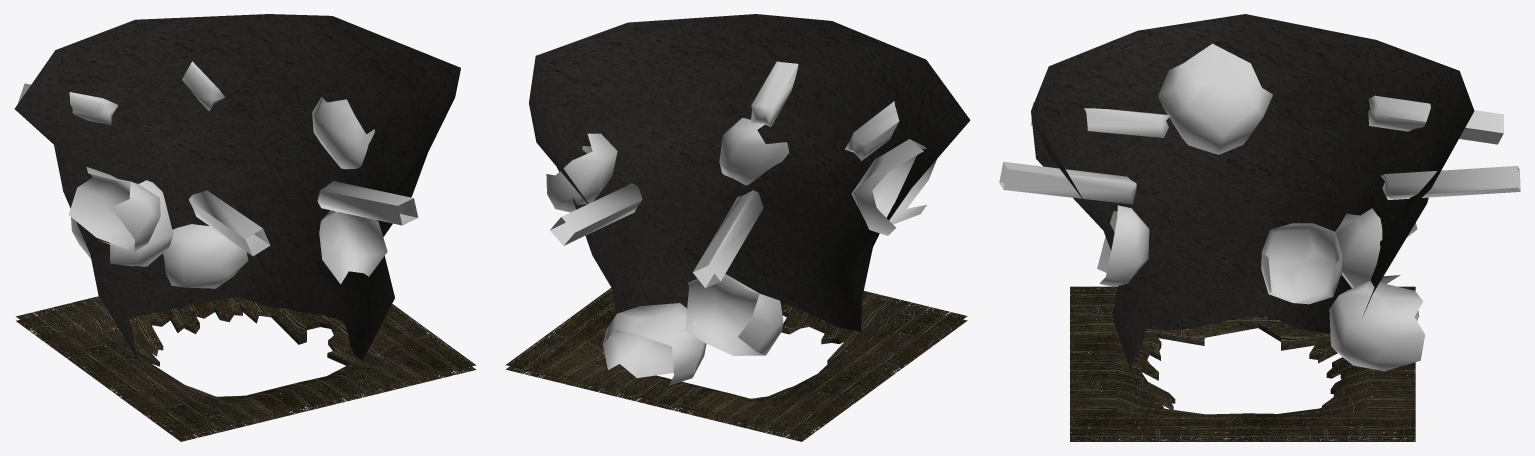
File: caved_in_roof.dae
The picture shows the model from 3 angles, left to right: view 1: azimuth 30°, elevation 25°; view 2: azimuth 150°, elevation 25°; view 3: azimuth 270°, elevation 25°; orthographic projection. The views are drawn at different scales.
Parts seen in each view (by area): view 1: polySurface4, polySurface100, polySurface129, polySurface101; view 2: polySurface4, polySurface129, polySurface100, polySurface101; view 3: polySurface4, polySurface129, polySurface100, polySurface101.
Boxes of the visible parts, x1=… form: polySurface4: x1=14, y1=14, x2=460, y2=360; polySurface100: x1=16, y1=296, x2=476, y2=441; polySurface129: x1=18, y1=61, x2=418, y2=288; polySurface101: x1=143, y1=304, x2=350, y2=400; polySurface4: x1=529, y1=14, x2=970, y2=332; polySurface129: x1=546, y1=61, x2=936, y2=385; polySurface100: x1=505, y1=287, x2=967, y2=441; polySurface101: x1=653, y1=311, x2=850, y2=399; polySurface4: x1=1031, y1=14, x2=1474, y2=367; polySurface129: x1=999, y1=43, x2=1520, y2=371; polySurface100: x1=1070, y1=286, x2=1415, y2=441; polySurface101: x1=1141, y1=323, x2=1345, y2=418.
Bounding box in the file's own units: 10.75 × 7.07 × 11.69.
